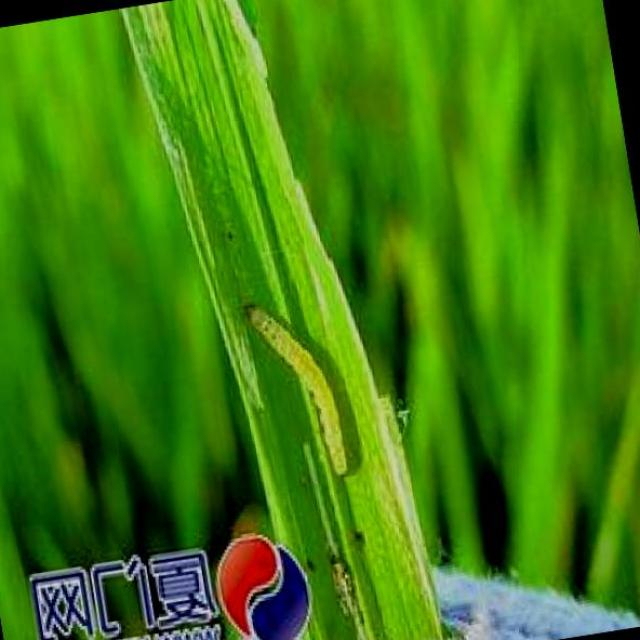leaf folder: (248, 306, 348, 475)
